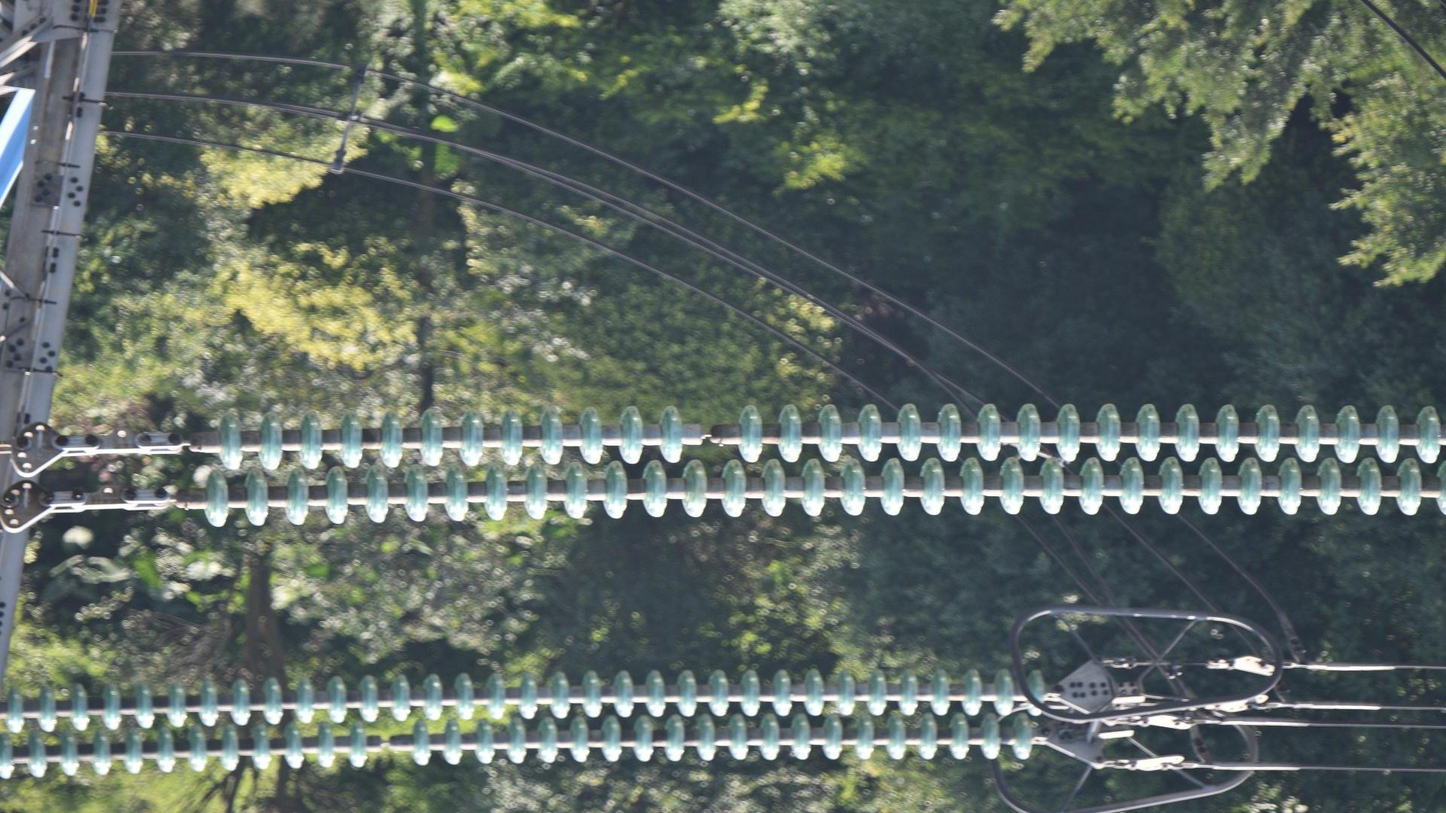insulator: (198, 391, 1446, 536), (1, 660, 1057, 792)
insulator_stringdrop: (656, 395, 772, 470), (342, 714, 440, 778)
